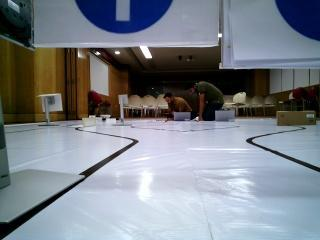straight: (37, 2, 215, 43)
